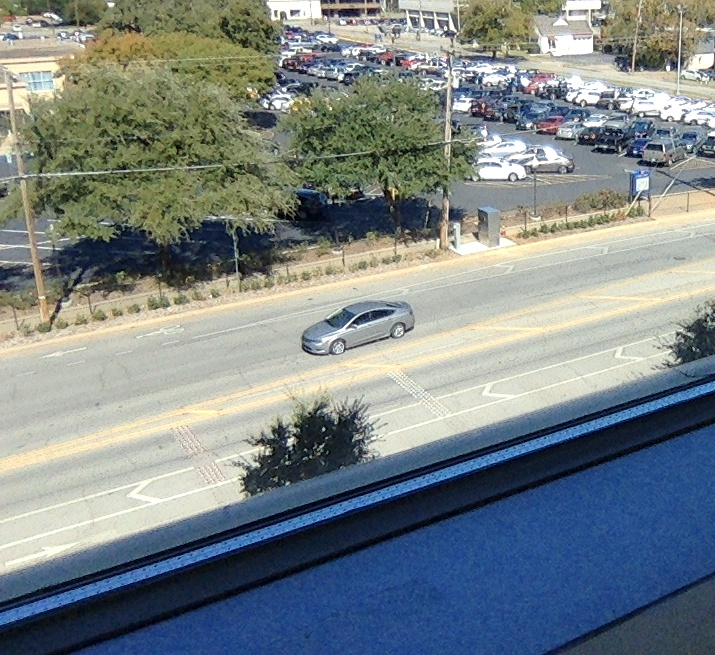car: (300, 300, 415, 355)
